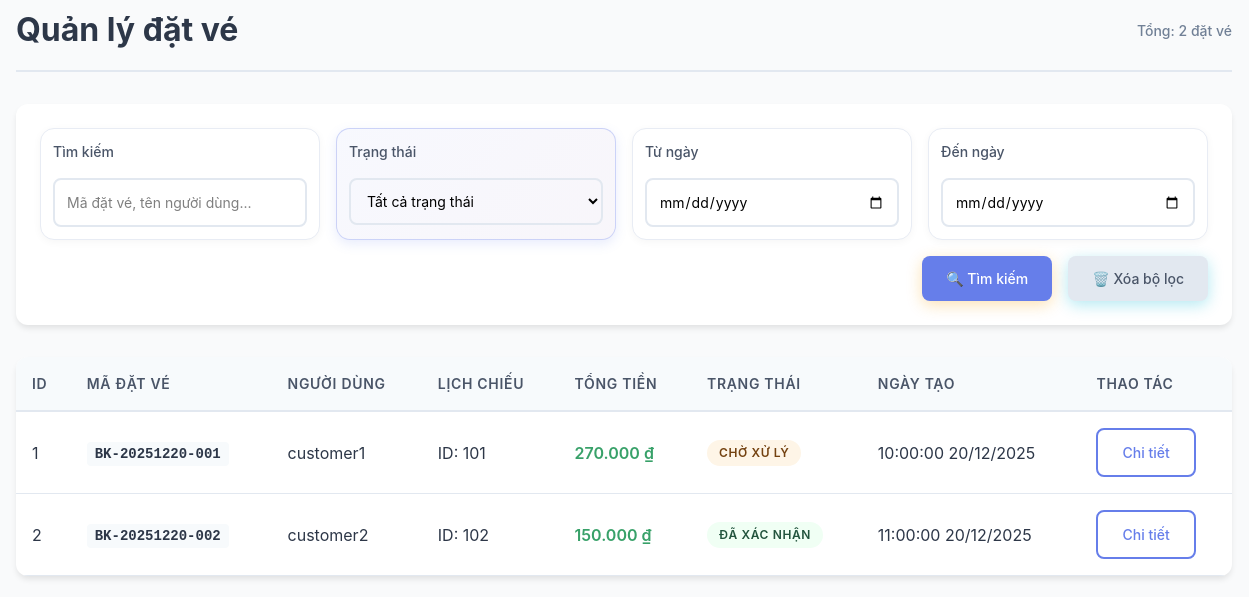
Test: AdminBookingManagement › allows filtering by status
The width and height of the screenshot is (1249, 597).
Select "Chờ xử lý" in the dropdown at (476,202), box top-left (349, 178), bottom-right (603, 225)
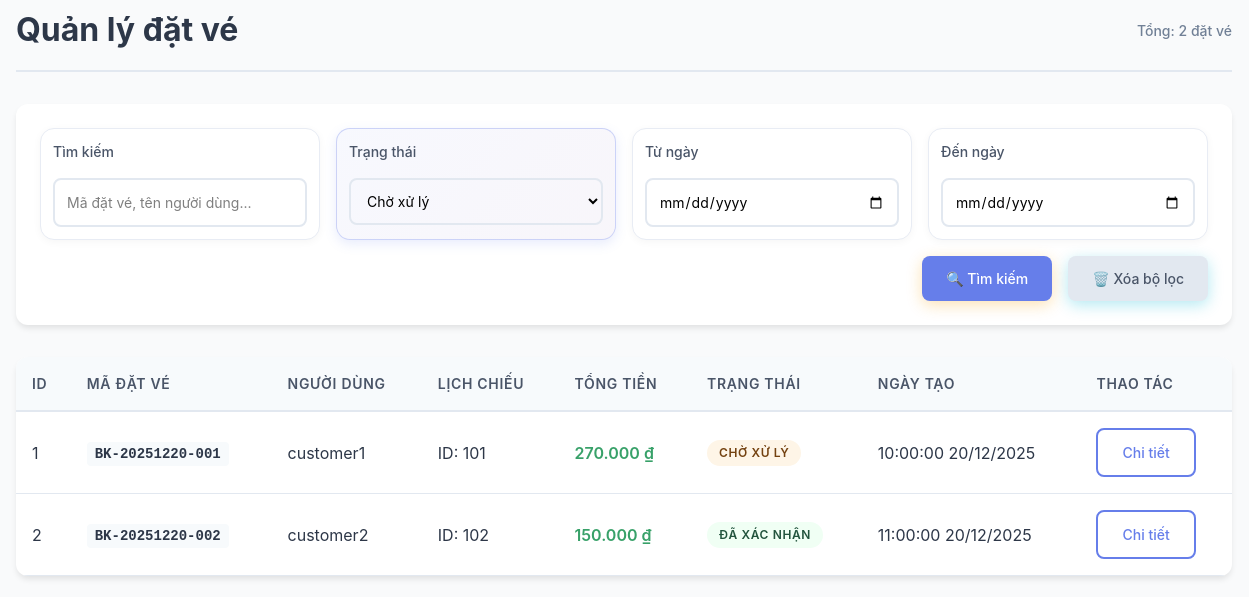
Check: the dropdown shows "Chờ xử lý", box top-left (349, 178), bottom-right (603, 225)
